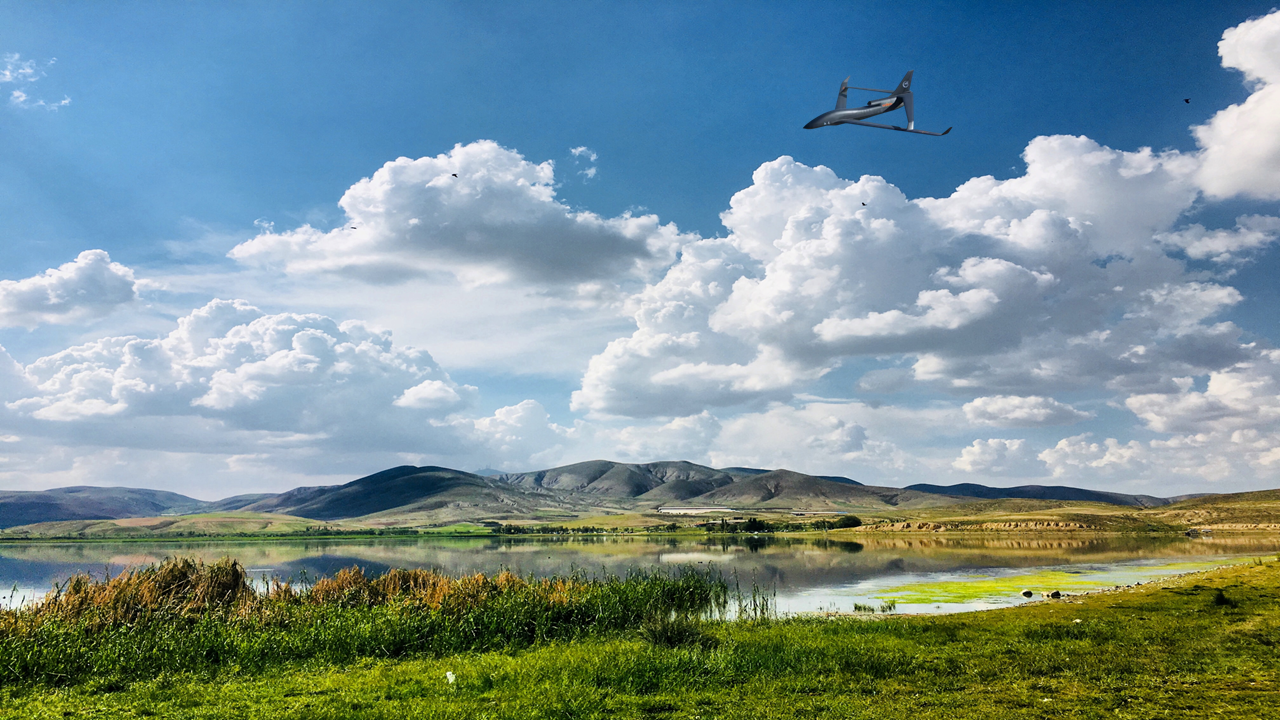military drone: (802, 70, 952, 136)
